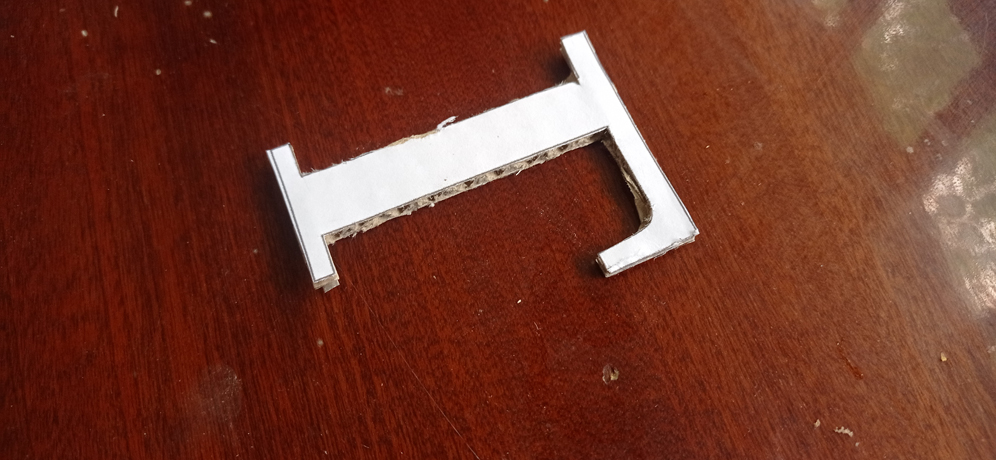g: (264, 31, 700, 300)
